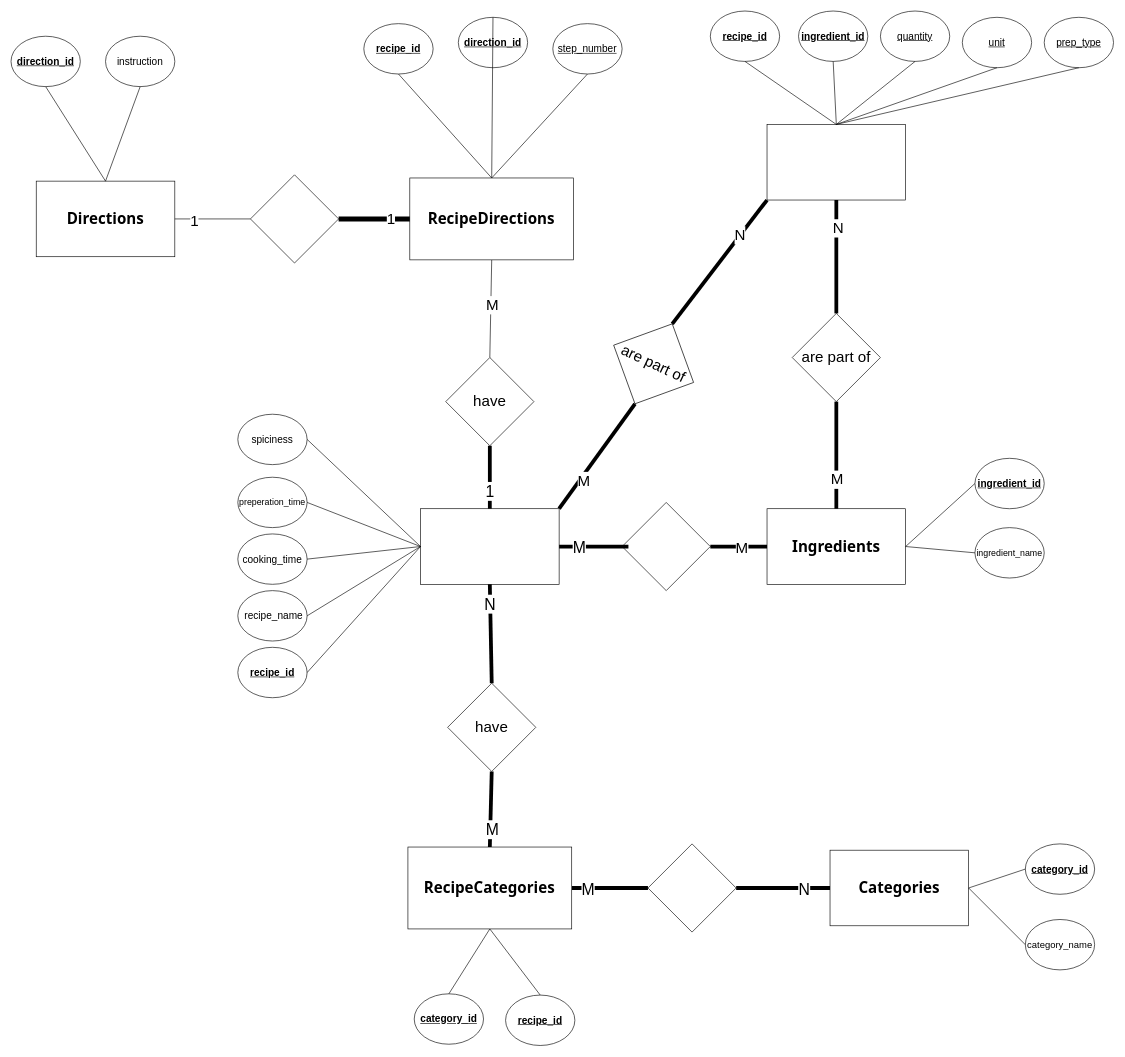
Image size: 1125x1057. Some labels were removed from this diagram. Each missing label, with the centre of its shape:
belong to: the point at 691,887
contain: the point at 665,546
include: the point at 294,218
RecipeIngredients: the point at 836,162
Recipes: the point at 489,546
